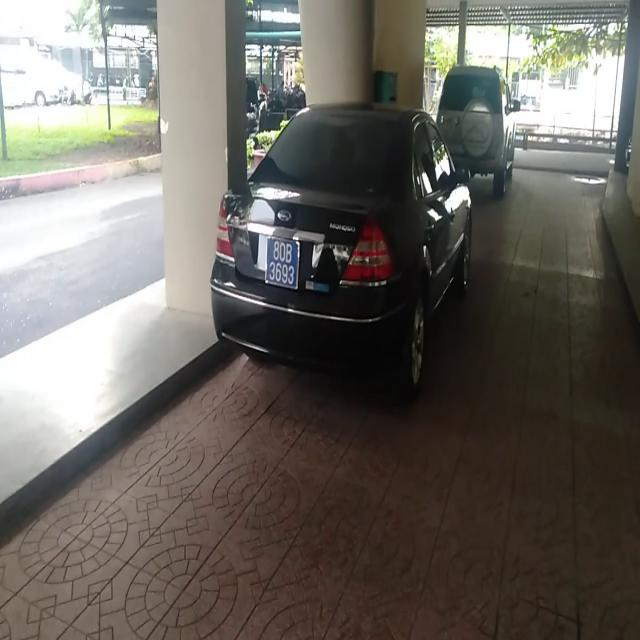bien_xanh: (262, 229, 302, 291)
